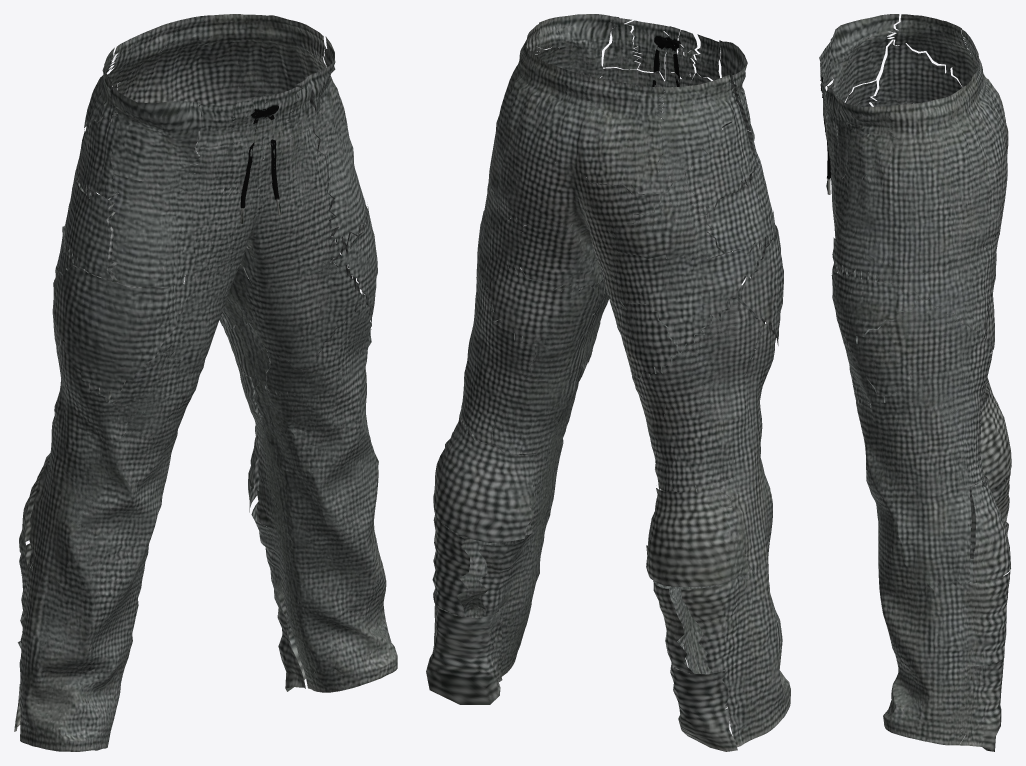
The model's file is dante.mobile.glb.
The picture shows the model from 3 angles, left to right: view 1: azimuth 30°, elevation 25°; view 2: azimuth 150°, elevation 25°; view 3: azimuth 270°, elevation 25°; orthographic projection. The views are drawn at different scales.
Visible parts, largest first — view 1: geometry_0; view 2: geometry_0; view 3: geometry_0.
Boxes of the visible parts, x1,y1,x2,y2 form: geometry_0: [14, 14, 397, 751]; geometry_0: [426, 14, 790, 751]; geometry_0: [819, 14, 1011, 751].
Size of the model in its own units: 0.5378 by 0.9885 by 0.2724.
Materials: 1 (1 with a texture image).
